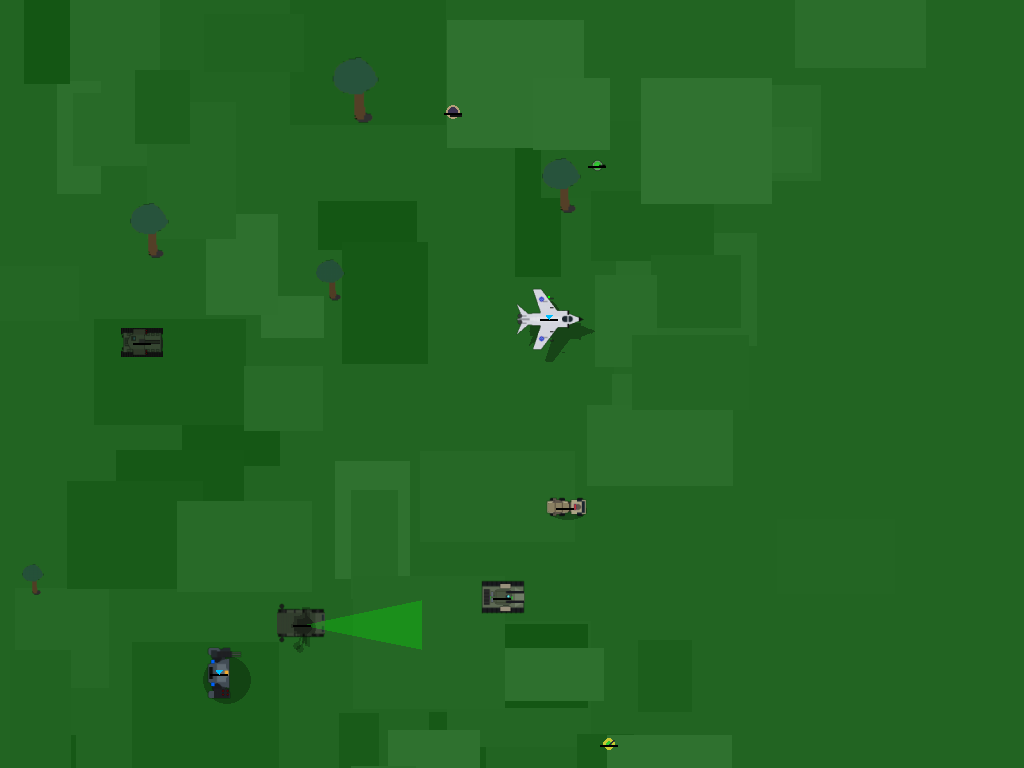ArmoredCar: (543, 486, 585, 528)
AttackPlane_rus: (528, 297, 570, 339)
Bastion: (198, 652, 239, 693)
M1A2_chn: (440, 98, 467, 125)
Mi24: (122, 323, 160, 361)
PowerPlant: (583, 151, 609, 177)
RadarBuilding: (272, 594, 332, 654)
Rifleman: (596, 730, 622, 756)
TerminatorIFV: (481, 576, 523, 618)
